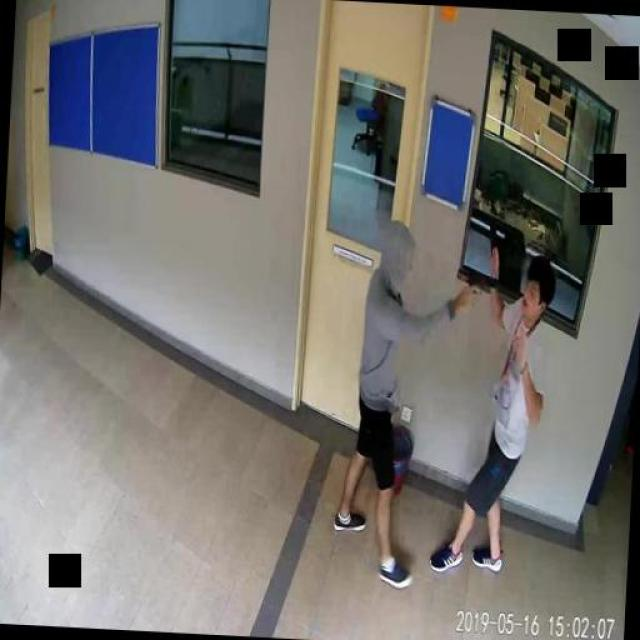gun: (464, 269, 498, 311)
